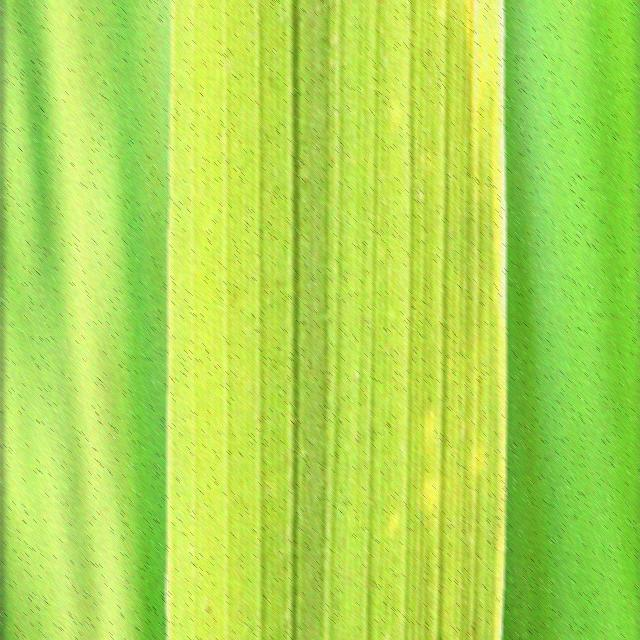BLS: (497, 96, 506, 339), (495, 0, 504, 91), (472, 0, 482, 69)
